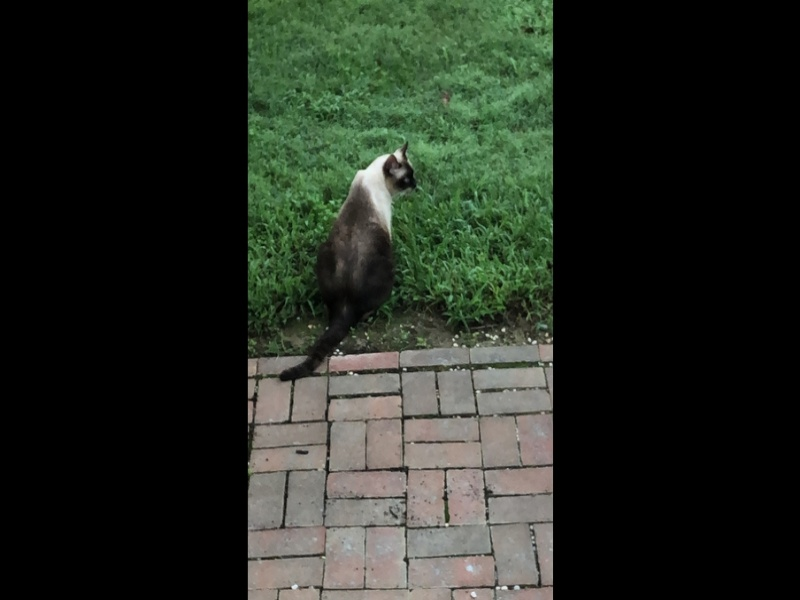cat: (278, 136, 423, 384)
